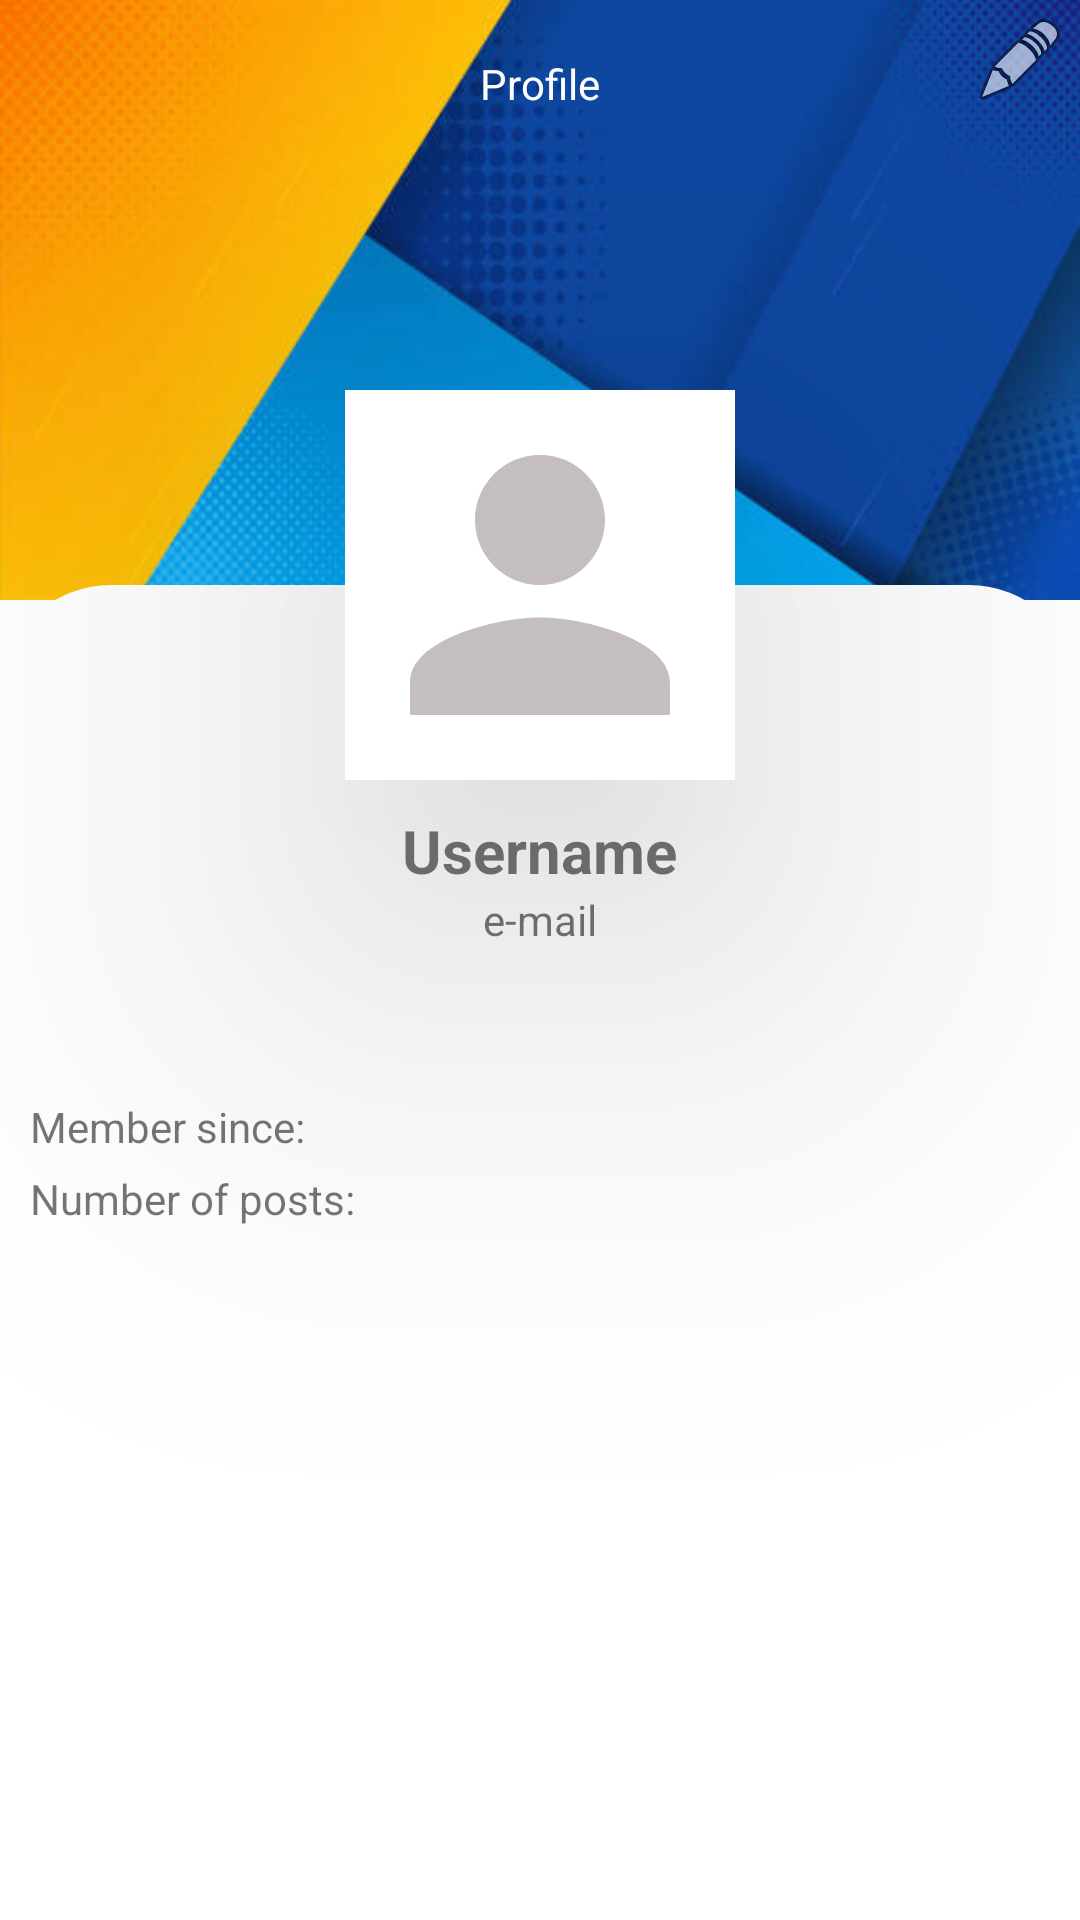

Named icons in this screenshot (1080*1920) and their bounding boxes, (left=x1, top=y1, right=x2, bottom=y2):
edit: (left=960, top=0, right=1080, bottom=120)
